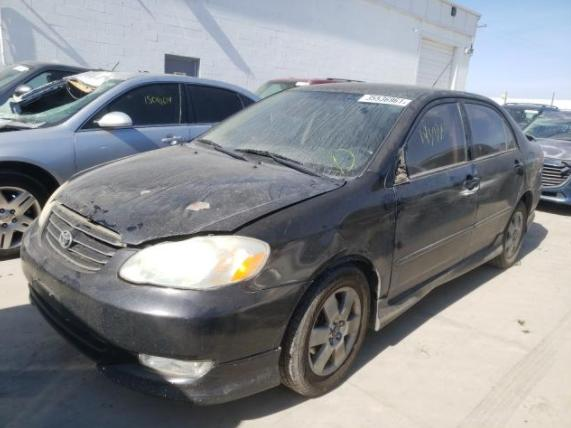Back-bumper: (527, 178, 542, 231)
Back-door: (459, 97, 524, 258)
Back-wheel: (486, 198, 528, 268)
Back-window: (463, 102, 517, 159)
Fender: (226, 167, 396, 300)
Front-bumper: (19, 215, 315, 405)
Front-door: (385, 97, 478, 301)
Front-wheel: (279, 263, 371, 398)
Front-window: (405, 102, 470, 181)
Grille: (41, 201, 126, 271)
Headlight: (119, 236, 270, 290), (38, 197, 57, 228)
Hood: (49, 142, 347, 248)
Quarter-panel: (514, 142, 544, 209)
Rocker-panel: (375, 225, 507, 332)
Roof: (284, 82, 488, 100)
Trunk: (525, 134, 537, 142)
Windshield: (189, 89, 412, 182)
